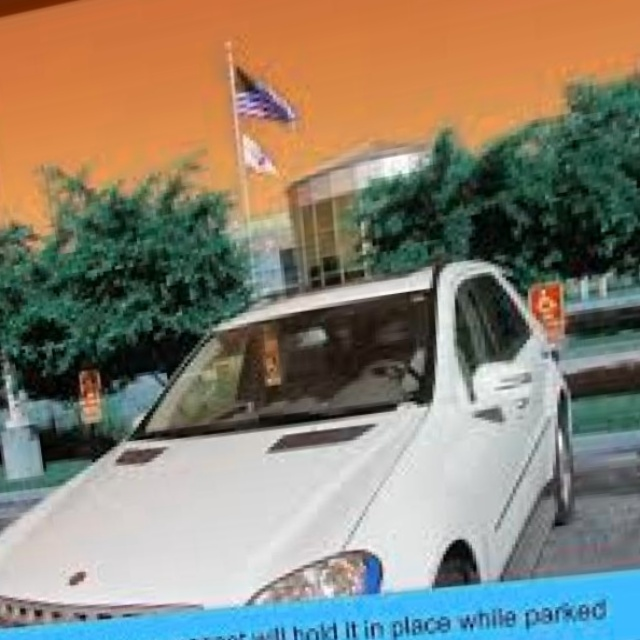ISA: (534, 286, 559, 318), (78, 376, 99, 401), (264, 355, 278, 378)
